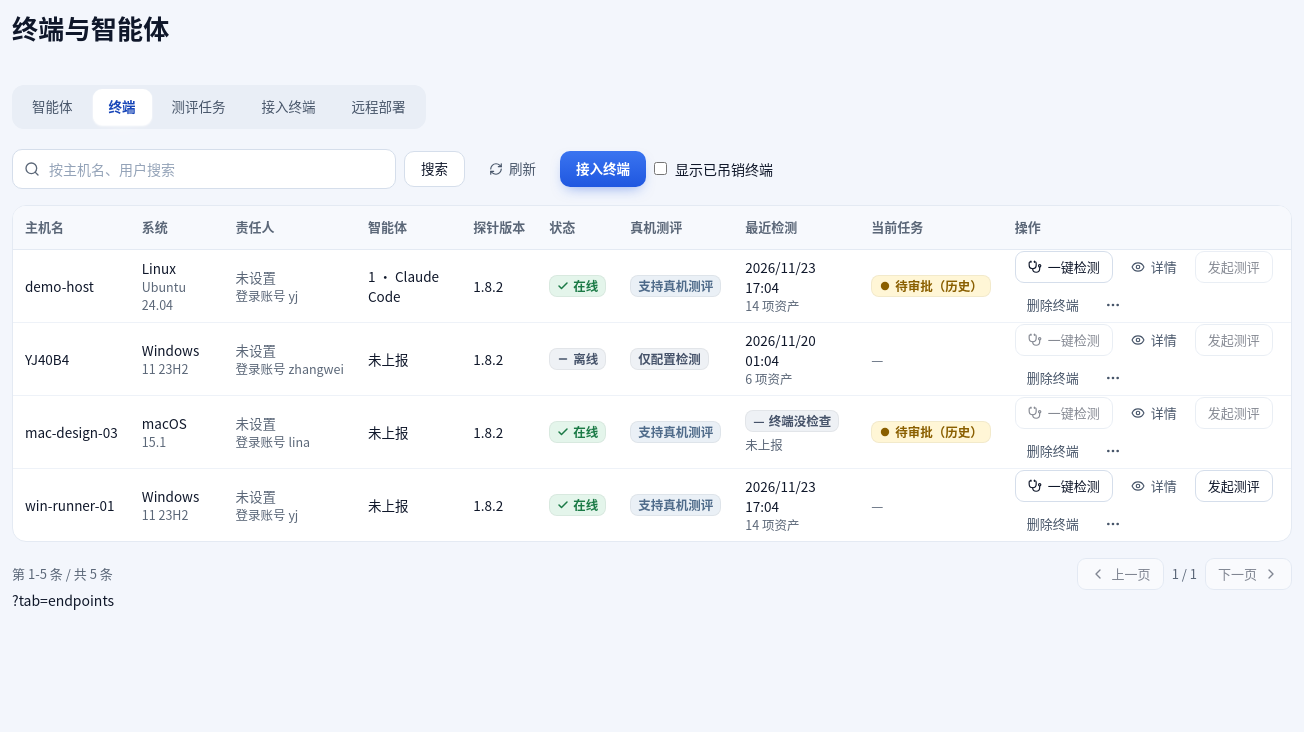
Test: 终端清单 › 真机测评能力只看终端上报的测评执行器：Windows 上报了就可用，没上报就置灰并说明原因
Windows 终端上报了测评执行器：与其他系统一样可发起，不再被一刀切置灰
Click the button named "更多操作：win-runner-01": (1113, 524) [1097, 508, 1129, 540]
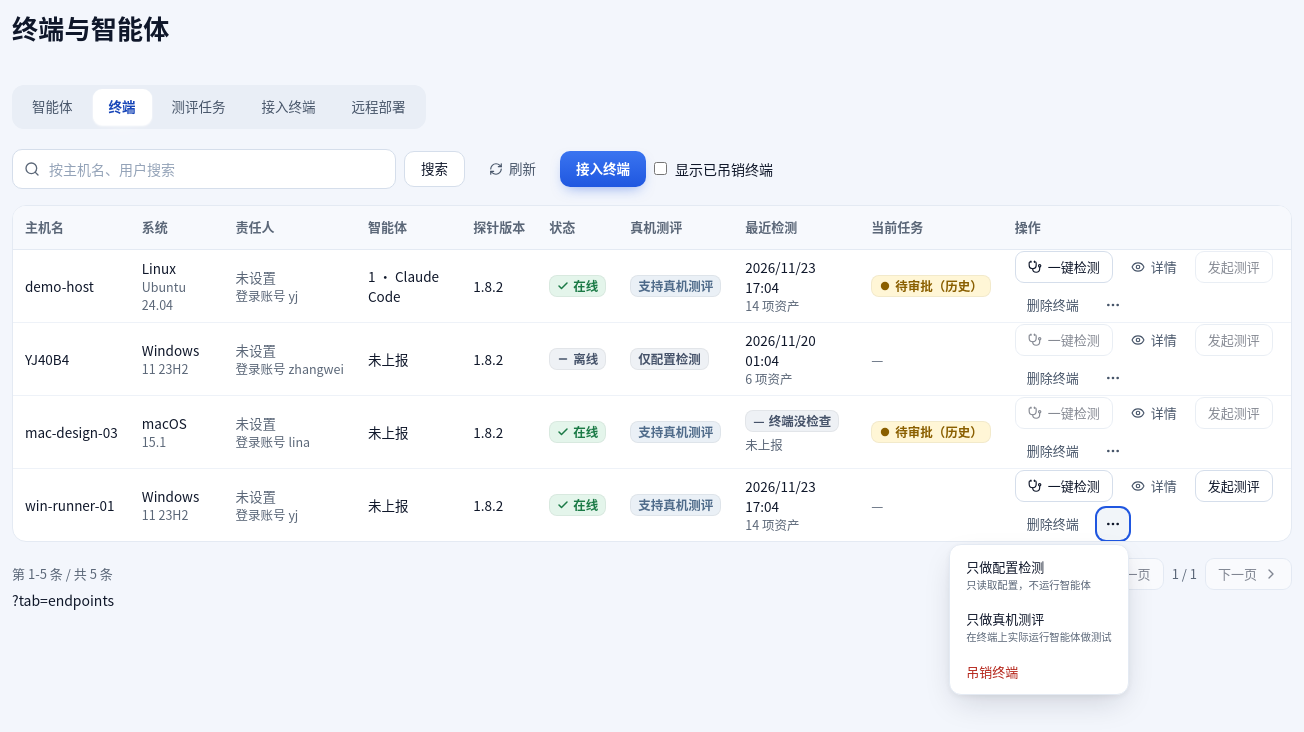
Now the menu item "只做真机测评 在终端上实际运行智能体做测试" is enabled, box [954, 601, 1124, 654]
Now the menu item "只做真机测评 在终端上实际运行智能体做测试" is shown, box [954, 601, 1124, 654]
Now the menu item "只做配置检测 只读取配置，不运行智能体" is enabled, box [954, 549, 1124, 601]
没有上报测评执行器的终端（这里恰好也是 Windows）：置灰，原因写明怎么办
Click the button named "更多操作：YJ40B4": (1113, 378) [1097, 362, 1129, 394]
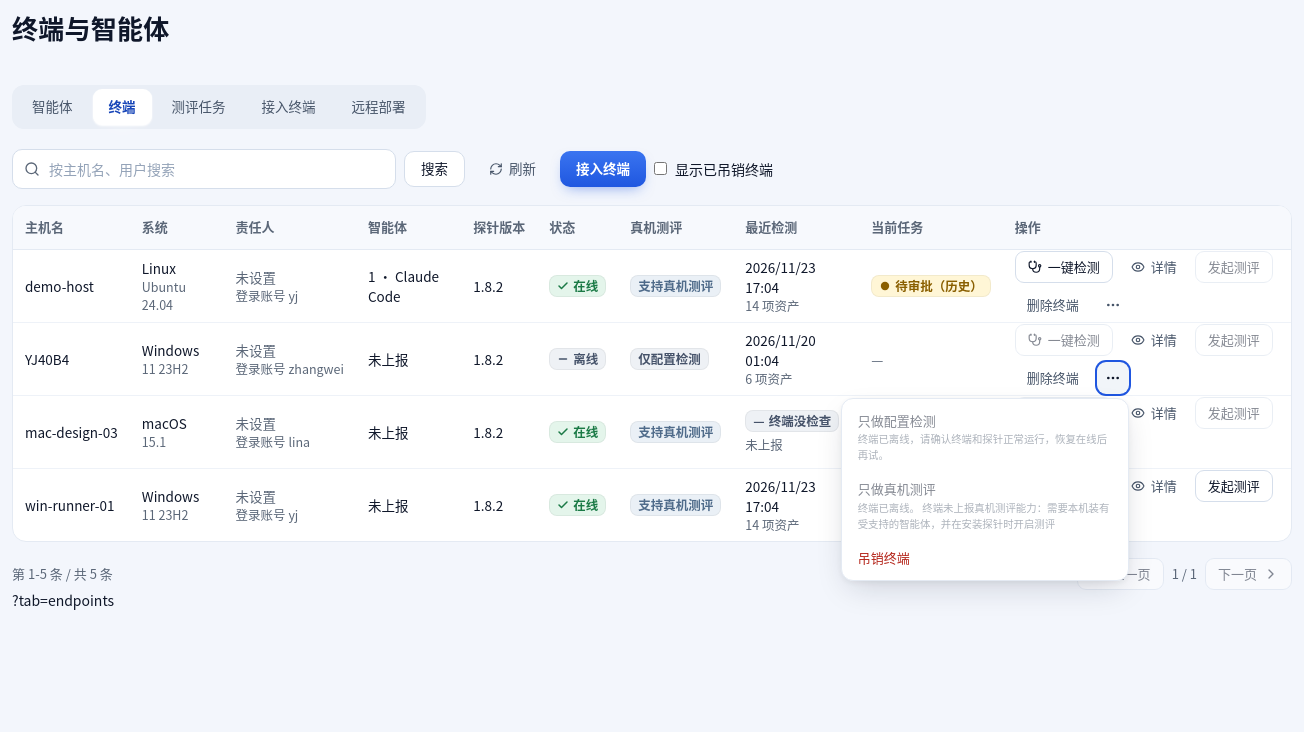
Expected: the text "仅配置检测" is shown, [630, 348, 709, 370]
Now the menu item "只做真机测评" is disabled, box [846, 471, 1124, 540]
Now the menu item "只做真机测评" shows "终端未上报真机测评能力：需要本机装有受支持的智能体，并在安装探针时开启测评", box [846, 471, 1124, 540]
